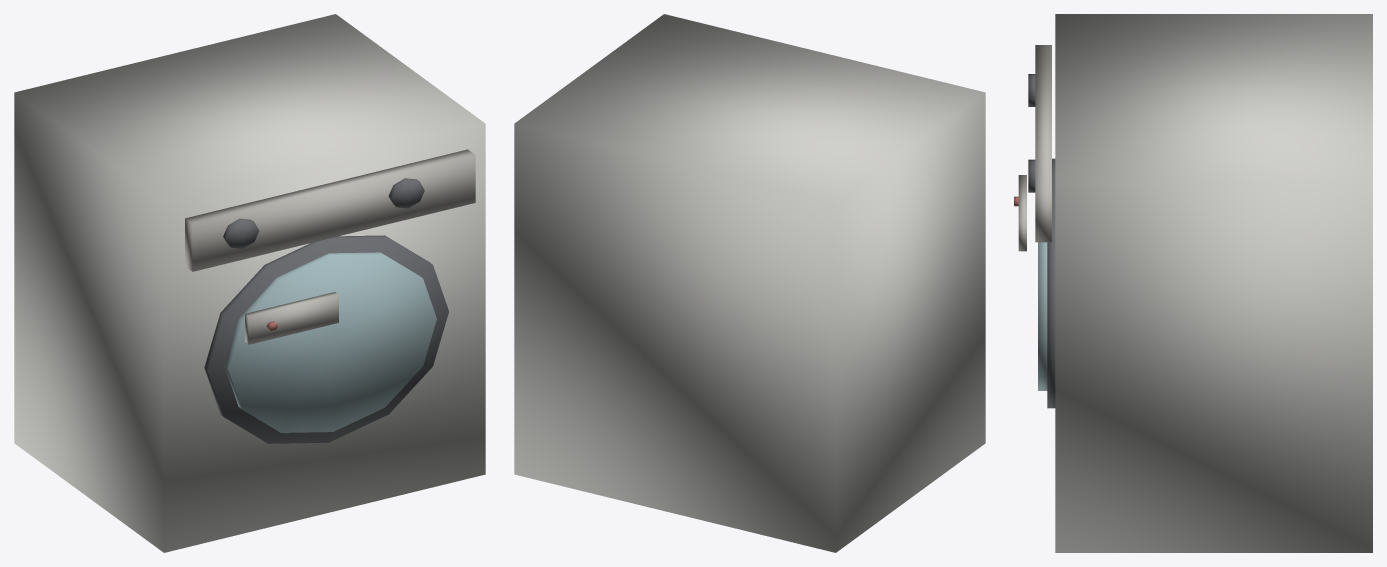
Rendered from domestic_dryer__wide.glb.
3 views of the same model, side by side, from view 1: azimuth 30°, elevation 25°; view 2: azimuth 150°, elevation 25°; view 3: azimuth 270°, elevation 25° (orthographic). The views are drawn at different scales.
Visible parts, largest first — view 1: world; view 2: world; view 3: world.
Boxes of the visible parts, x1,y1,x2,y2 form: world: (14, 14, 485, 552); world: (514, 14, 985, 552); world: (1014, 14, 1372, 552).
Bounding box in the file's own units: 0.8432 × 0.88 × 0.7685.
